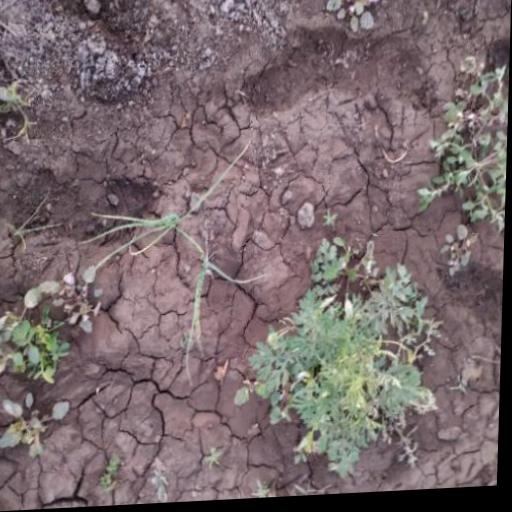weed: (242, 248, 461, 489), (0, 263, 117, 471), (437, 61, 510, 238)
